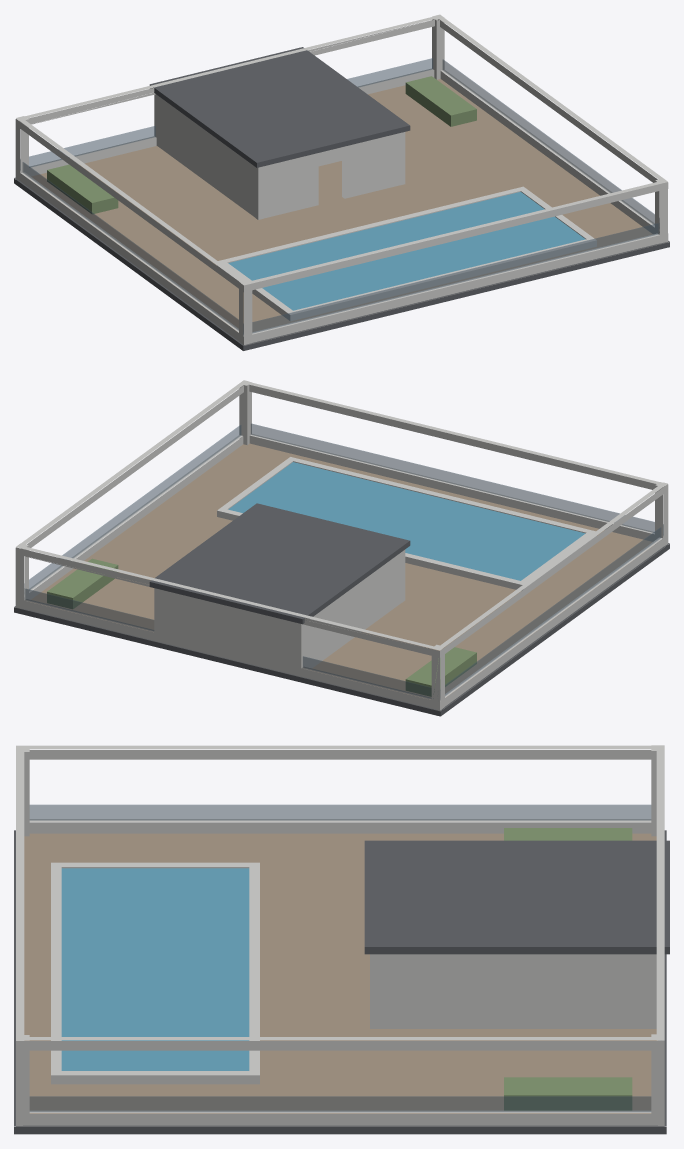
Rendered from condo-roof-b.shaft-v1.lod1.glb.
3 views of the same model, one above another, from view 1: azimuth 30°, elevation 25°; view 2: azimuth 150°, elevation 25°; view 3: azimuth 270°, elevation 25° (orthographic). The views are drawn at different scales.
Visible parts, largest first — view 1: condo-roof-b; view 2: condo-roof-b; view 3: condo-roof-b.
Boxes of the visible parts, x1,y1,x2,y2 form: condo-roof-b: (14, 14, 669, 350); condo-roof-b: (14, 380, 669, 716); condo-roof-b: (14, 745, 669, 1134).
Size of the model in its own units: 26.16 by 3.86 by 24.48.
